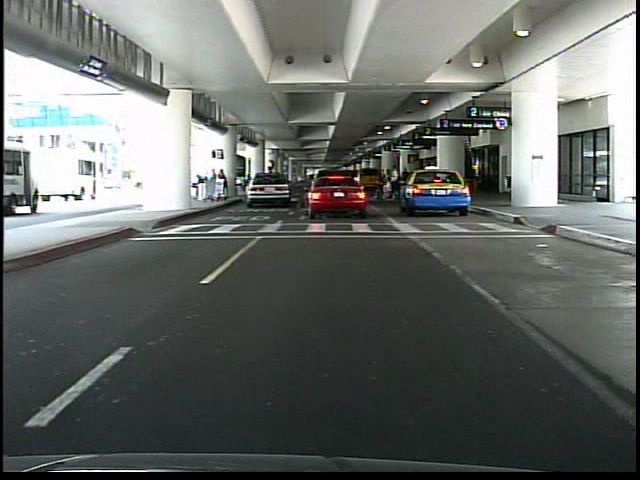person: (264, 165, 278, 204), (391, 167, 403, 201), (401, 166, 411, 203), (372, 173, 382, 202)
